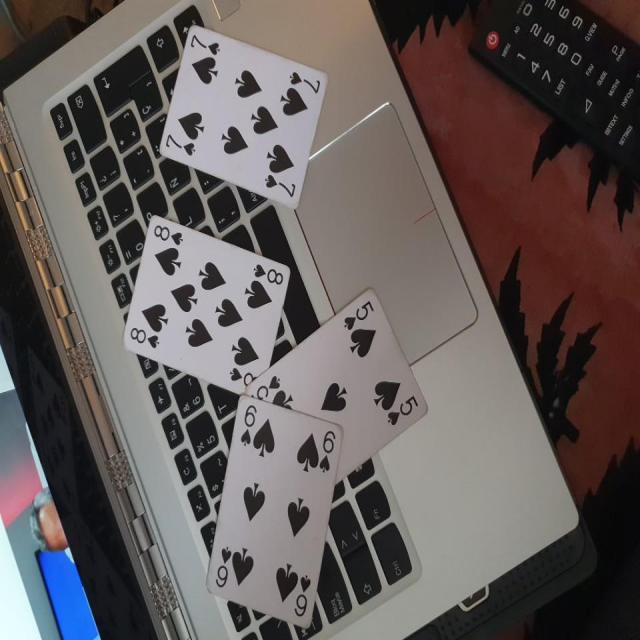5 Spades: (239, 280, 430, 494)
6 Spades: (197, 401, 363, 628)
7 Spades: (157, 23, 335, 211)
8 Spades: (126, 204, 291, 410)
